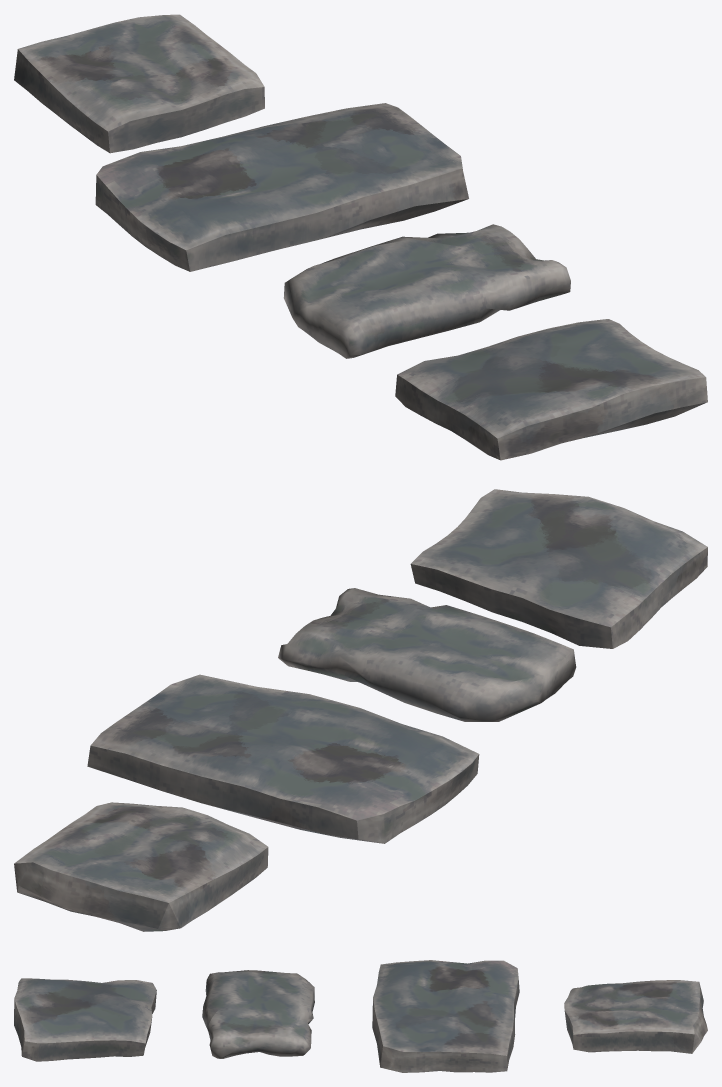
File: Tine_Block.fbx
3 renders of one model, top to bottom at view 1: azimuth 30°, elevation 25°; view 2: azimuth 150°, elevation 25°; view 3: azimuth 270°, elevation 25°, orthographic. The views are drawn at different scales.
Visible parts, largest first — view 1: Tine_Block1, Tine_Block3, Tine_Block2, Tine_Block; view 2: Tine_Block1, Tine_Block3, Tine_Block2, Tine_Block; view 3: Tine_Block1, Tine_Block3, Tine_Block, Tine_Block2.
Boxes of the visible parts, box(x1,y1,x2,y2) form: Tine_Block1: box(95, 103, 468, 271); Tine_Block3: box(395, 319, 707, 460); Tine_Block2: box(283, 224, 570, 358); Tine_Block: box(14, 14, 264, 153); Tine_Block1: box(87, 674, 479, 843); Tine_Block3: box(410, 489, 707, 648); Tine_Block2: box(278, 588, 576, 721); Tine_Block: box(14, 802, 268, 931); Tine_Block1: box(372, 960, 519, 1072); Tine_Block3: box(14, 978, 156, 1061); Tine_Block: box(564, 980, 707, 1053); Tine_Block2: box(202, 970, 314, 1058).
Size of the model in its own units: 80.19 by 15.7 by 237.
